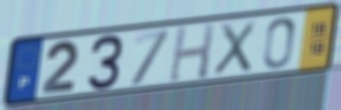0: (262, 15, 298, 71)
2: (39, 39, 82, 97)
3: (84, 32, 126, 92)
7: (130, 28, 170, 86)
H: (167, 21, 218, 84)
X: (211, 19, 258, 78)
